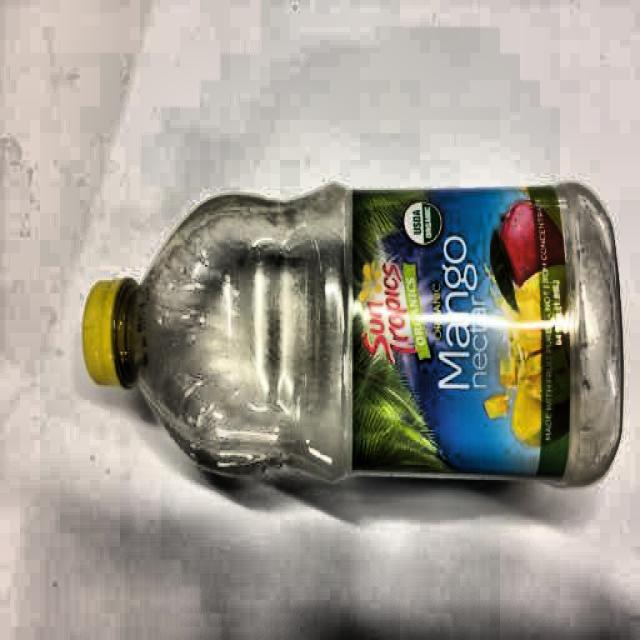plastic: (81, 182, 624, 500)
